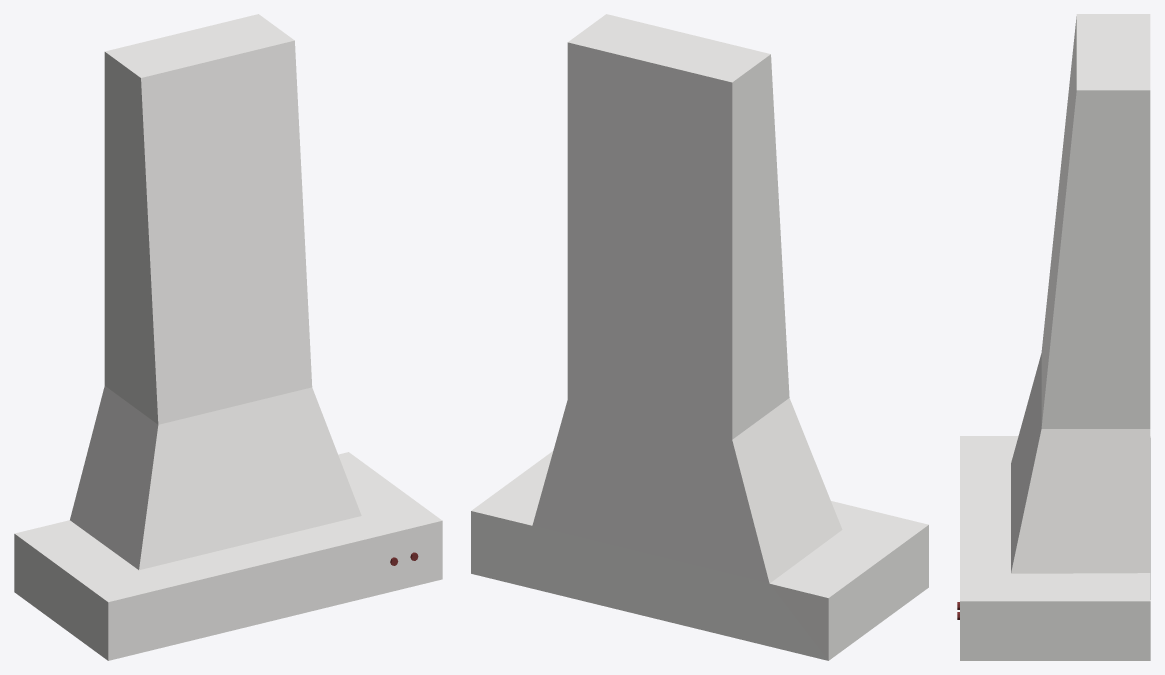
The model's file is Kitchen_Hood_3.fbx.
3 renders of one model, left to right at view 1: azimuth 30°, elevation 25°; view 2: azimuth 150°, elevation 25°; view 3: azimuth 270°, elevation 25°, orthographic. The views are drawn at different scales.
Parts seen in each view (by area): view 1: Kitchen_Hood_3; view 2: Kitchen_Hood_3; view 3: Kitchen_Hood_3.
Part boxes in pixels (x1,y1,x2,y2): Kitchen_Hood_3: (14, 14, 442, 660); Kitchen_Hood_3: (471, 14, 928, 660); Kitchen_Hood_3: (957, 14, 1150, 660).
Size of the model in its own units: 105 by 51.99 by 156.
